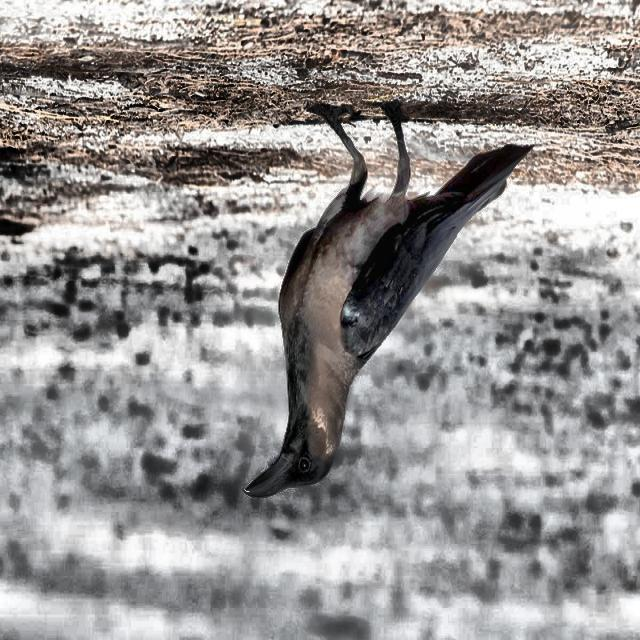crow: (234, 89, 541, 502)
